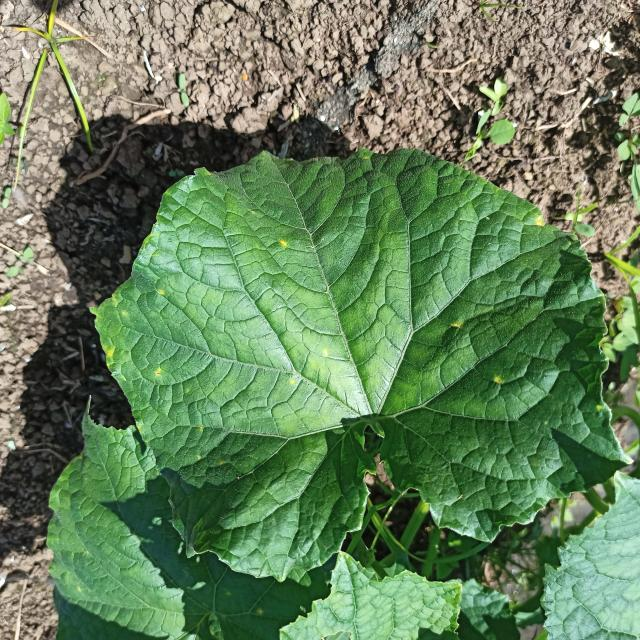disease_cucumber: (104, 345, 116, 367), (492, 374, 503, 385), (452, 321, 464, 329), (157, 289, 166, 297), (322, 346, 329, 356), (154, 366, 161, 376), (537, 218, 544, 227), (281, 238, 287, 248), (289, 377, 296, 385), (596, 404, 602, 410), (136, 426, 142, 430), (200, 426, 202, 430)
